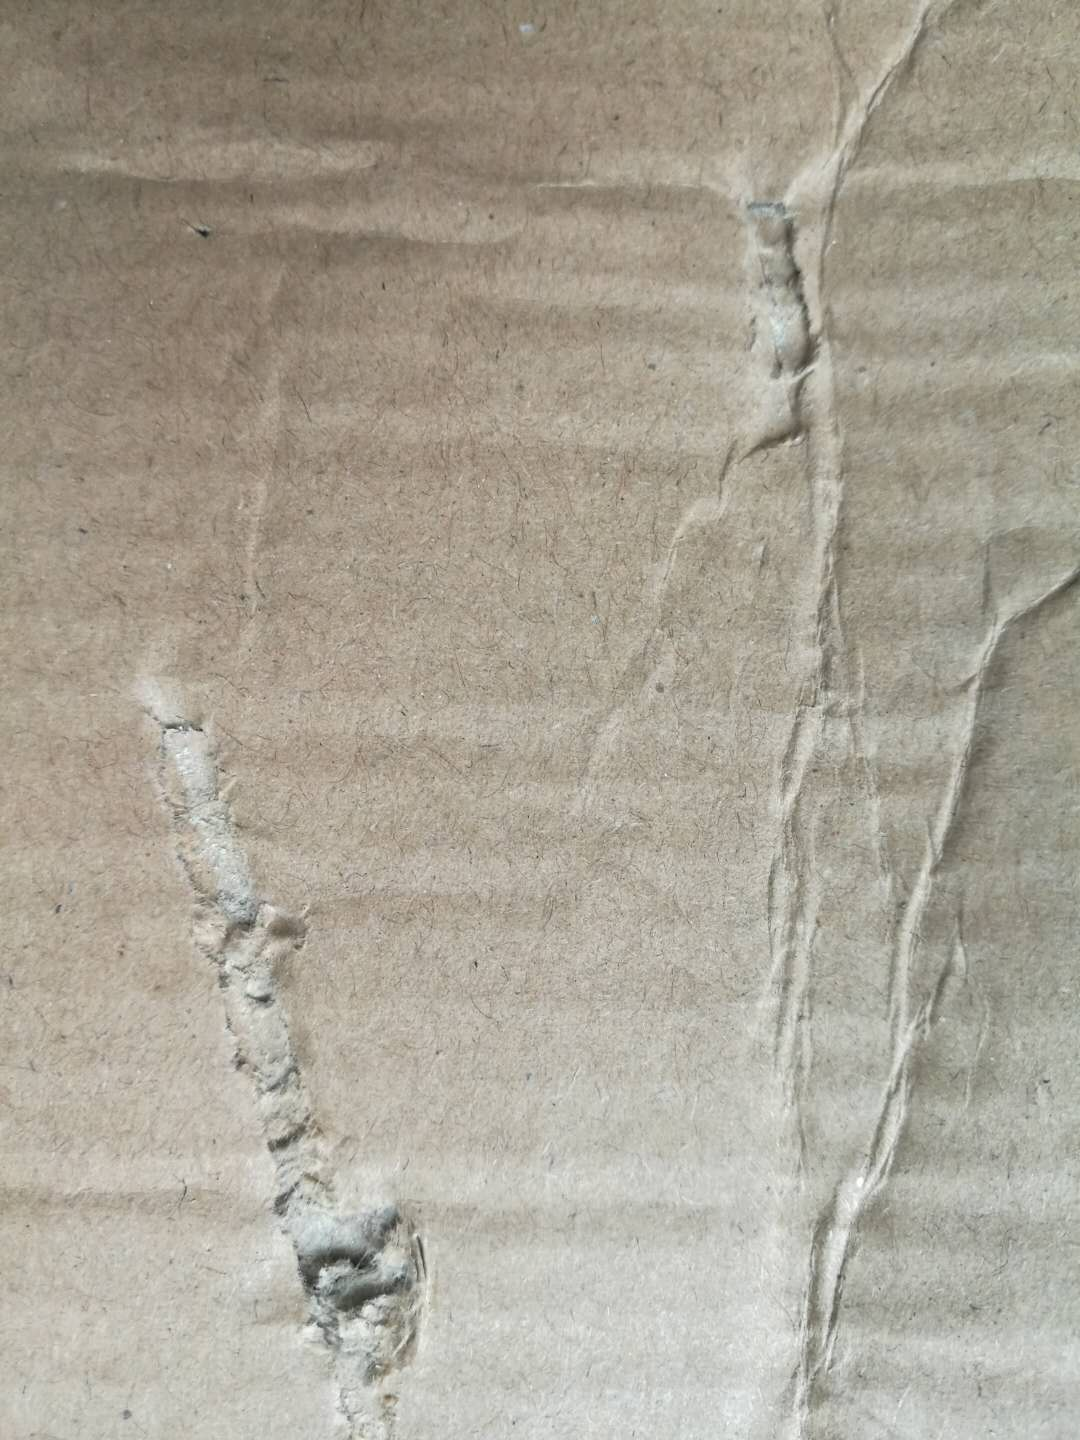defect: (571, 5, 1075, 1435), (5, 75, 1071, 365), (82, 625, 461, 1440), (6, 1116, 1080, 1304)
